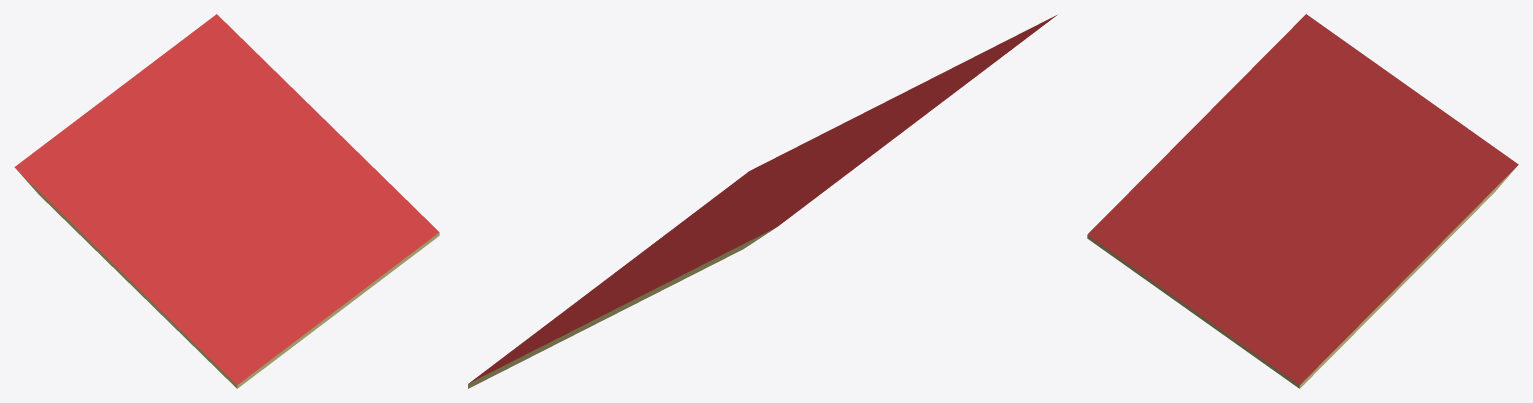
3 views of the same model, side by side, from view 1: azimuth 30°, elevation 25°; view 2: azimuth 210°, elevation 25°; view 3: azimuth 270°, elevation 25° (orthographic). The views are drawn at different scales.
Bounding box in the file's own units: 12.15 × 10.77 × 4.66.
